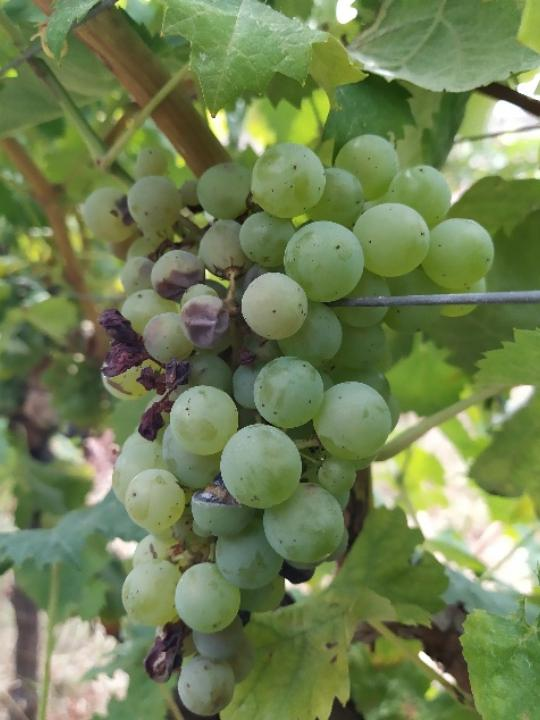grape: (93, 133, 499, 720)
